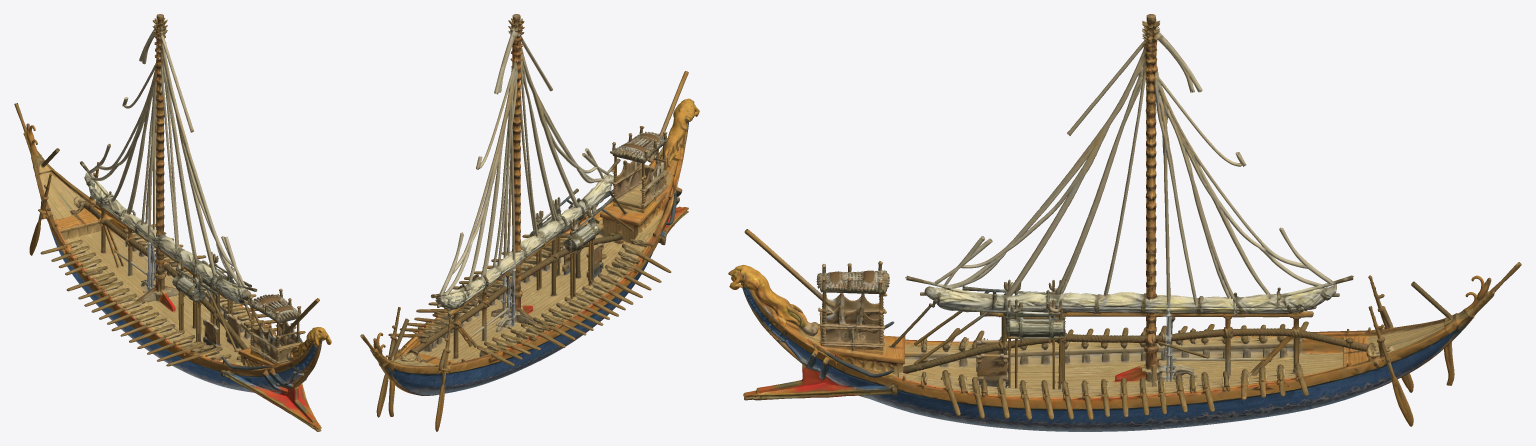
Rendered from Minoan_Galley_Thera.min.glb.
The picture shows the model from 3 angles, left to right: view 1: azimuth 30°, elevation 25°; view 2: azimuth 150°, elevation 25°; view 3: azimuth 270°, elevation 25°; orthographic projection. The views are drawn at different scales.
Parts seen in each view (by area): view 1: tripo_node_eda8cda7-d2d3-47fd-b562-c688ef0aa1e5; view 2: tripo_node_eda8cda7-d2d3-47fd-b562-c688ef0aa1e5; view 3: tripo_node_eda8cda7-d2d3-47fd-b562-c688ef0aa1e5.
Boxes of the visible parts, bbox=[...] form: tripo_node_eda8cda7-d2d3-47fd-b562-c688ef0aa1e5: bbox=[14, 14, 331, 431]; tripo_node_eda8cda7-d2d3-47fd-b562-c688ef0aa1e5: bbox=[360, 14, 699, 431]; tripo_node_eda8cda7-d2d3-47fd-b562-c688ef0aa1e5: bbox=[728, 14, 1521, 431].
Bounding box in the file's own units: 0.265 × 0.5561 × 0.9849.
1 material, 1 textured.
